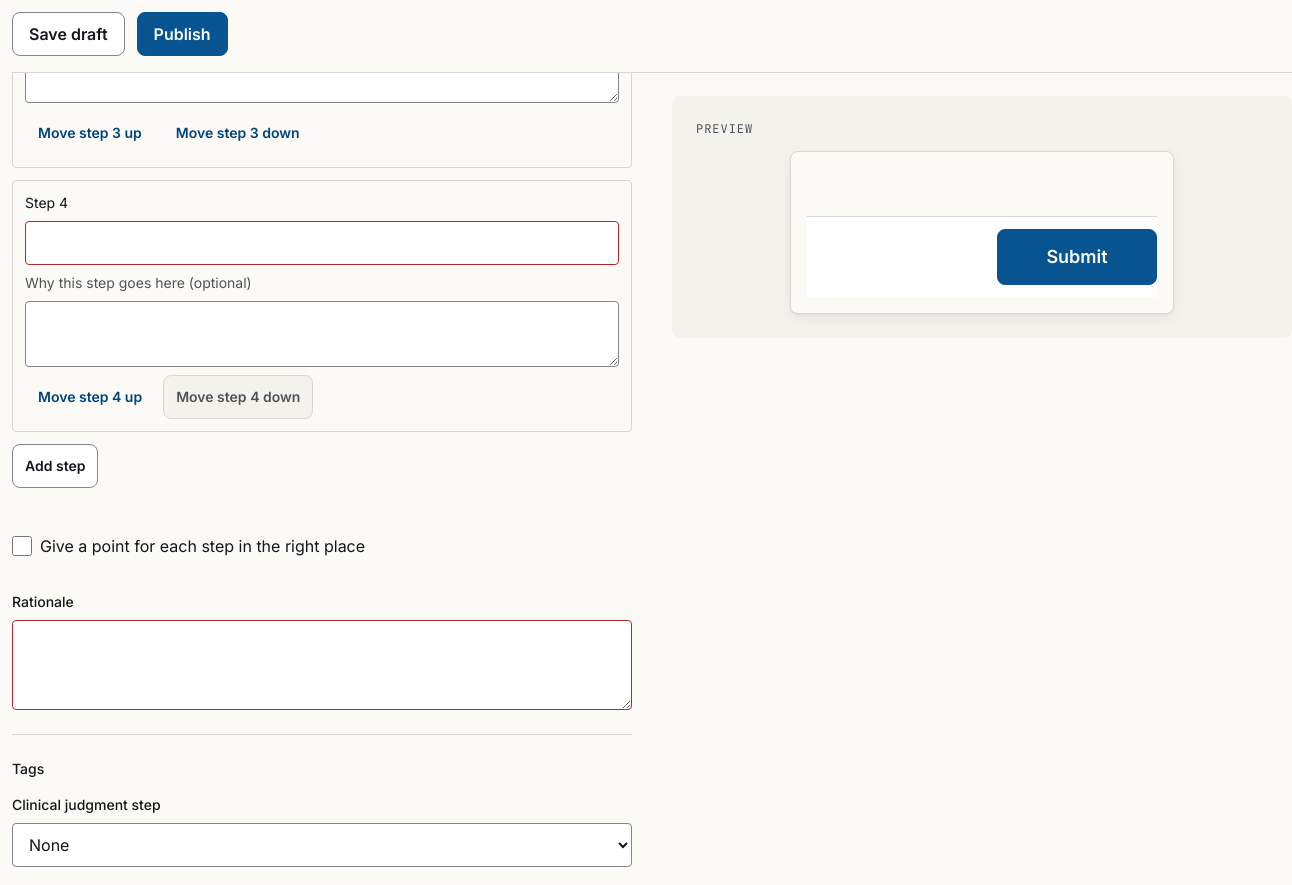
OrderedResponseEditor › adds up to six steps and removes down to four
This screenshot has width=1292, height=885.
(page scrolled)
Click the button "Add step" at (55, 466), box [12, 444, 98, 488]
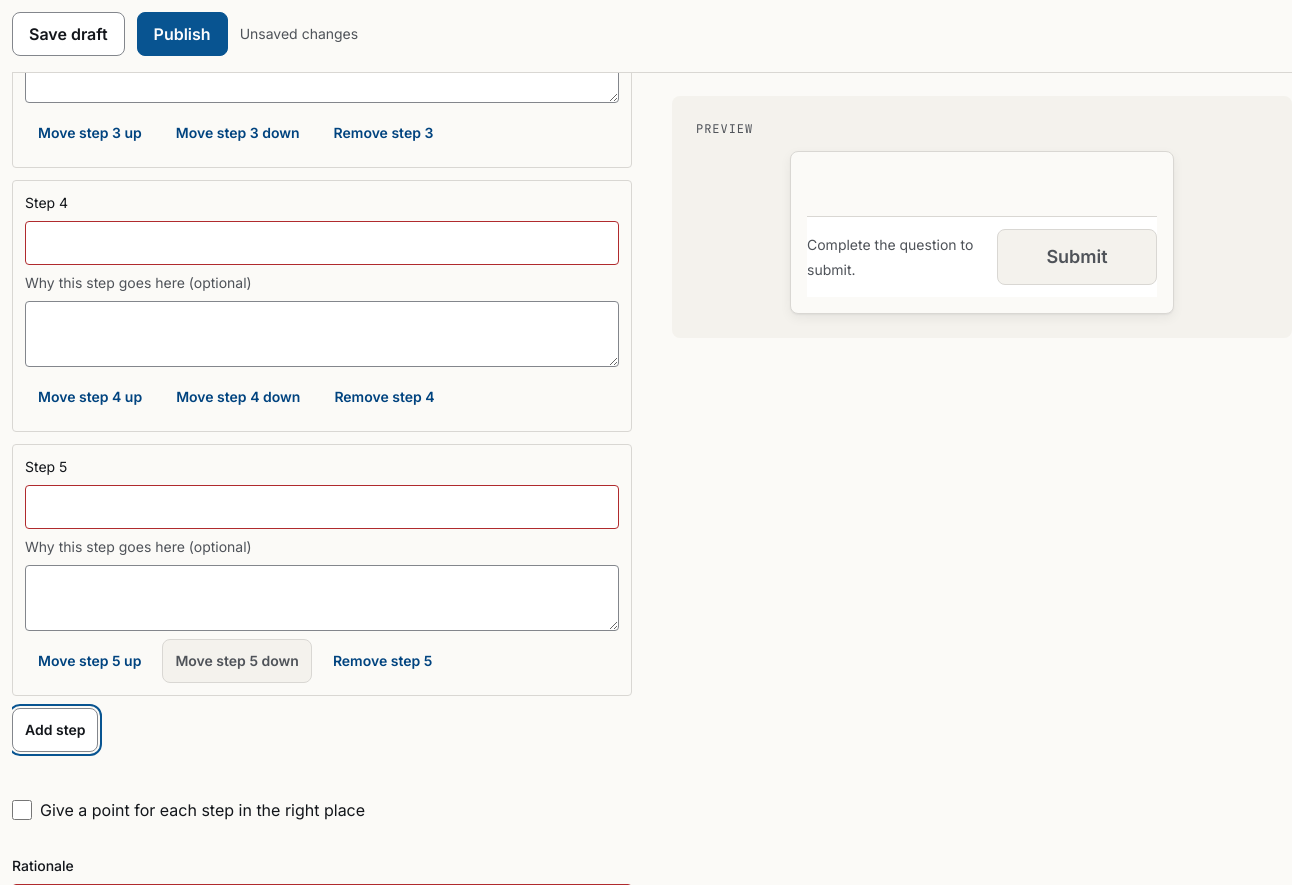
Click the button "Add step" at (55, 730), box [12, 708, 98, 752]
(page scrolled)
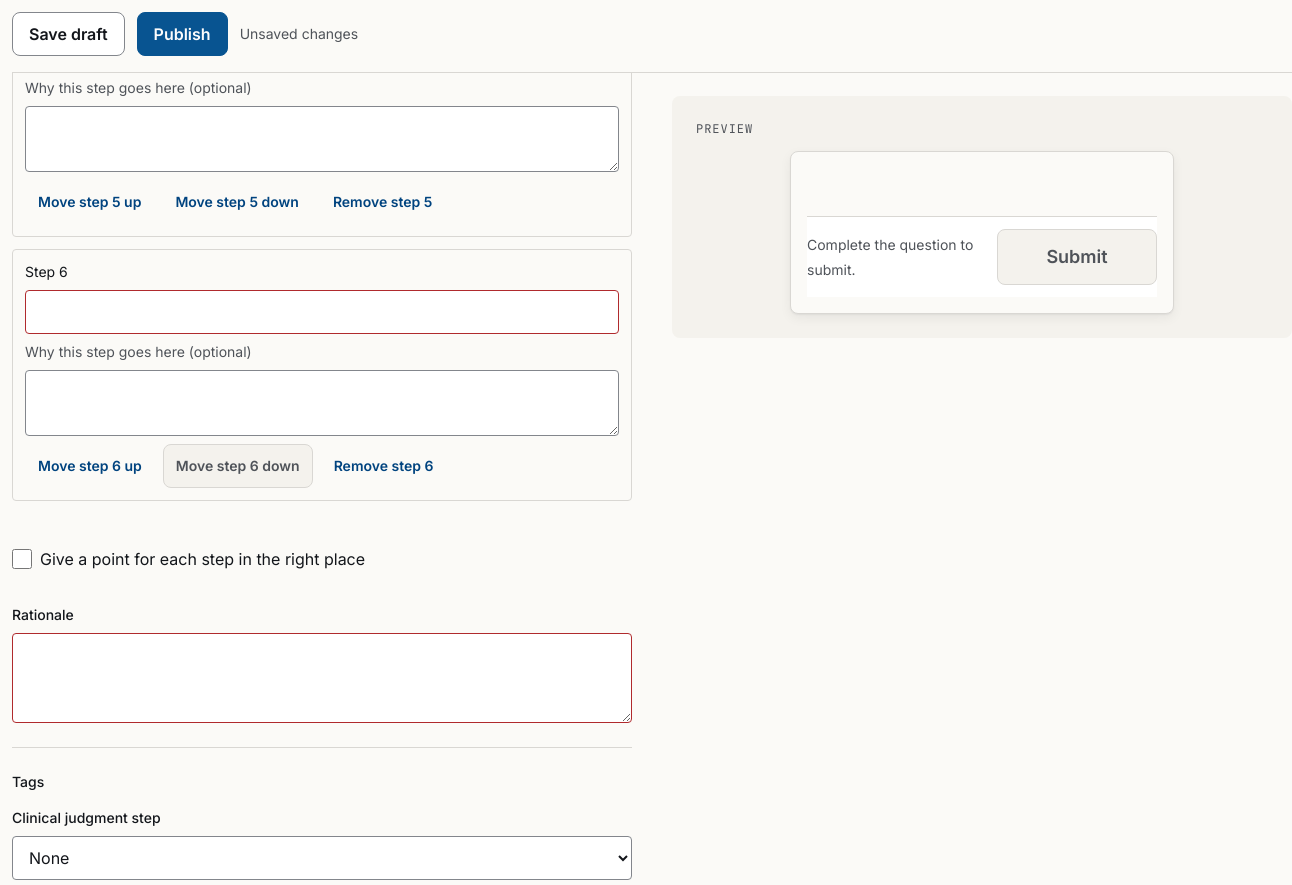
Expected: the field labelled "Step 6" is shown, [25, 290, 619, 334]
Expected: the button "Add step" is gone
Click the button "Remove step 6" at (384, 466), box [321, 444, 447, 488]
(page scrolled)
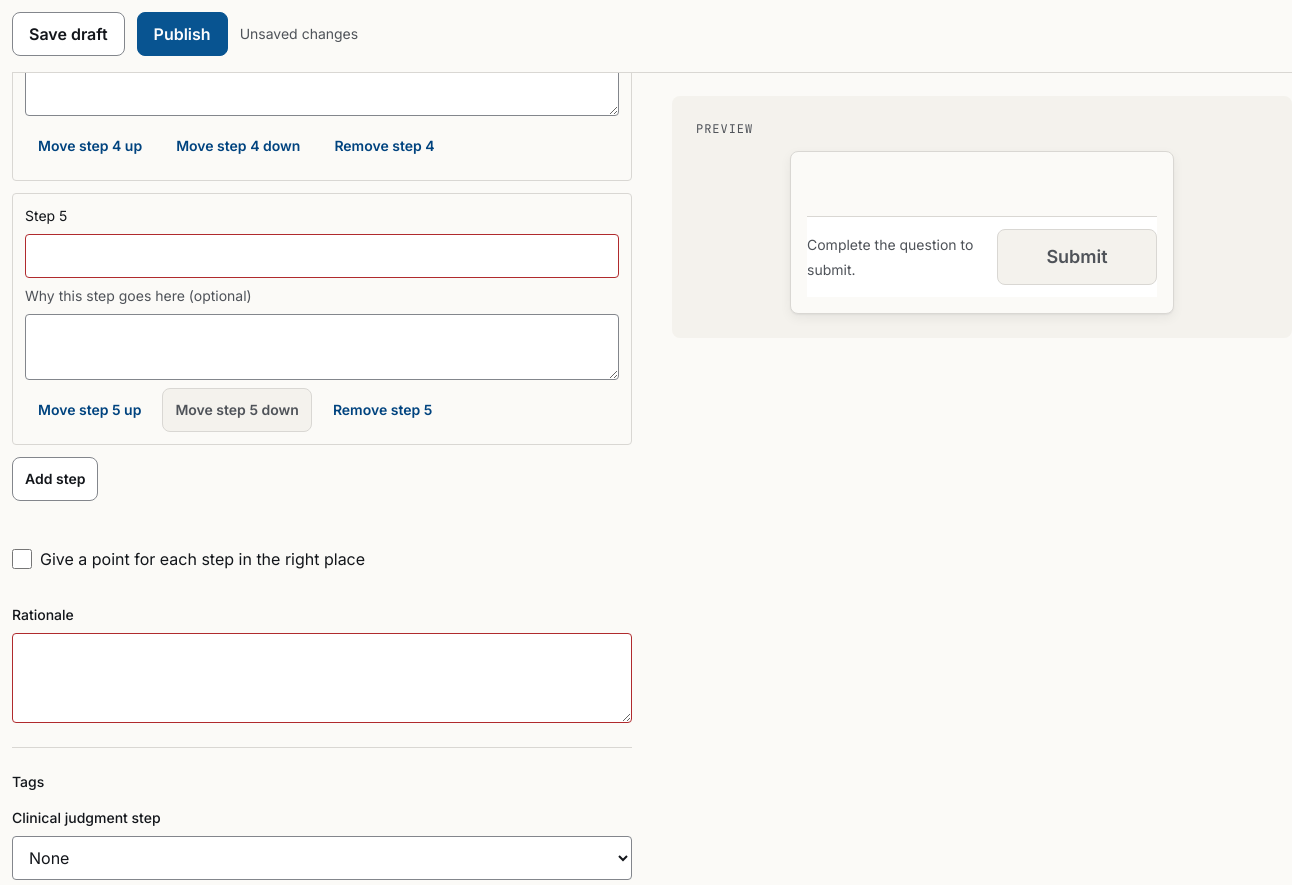
Expected: the label "Step 6" is gone
